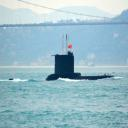submarine: (10, 56, 120, 82)
